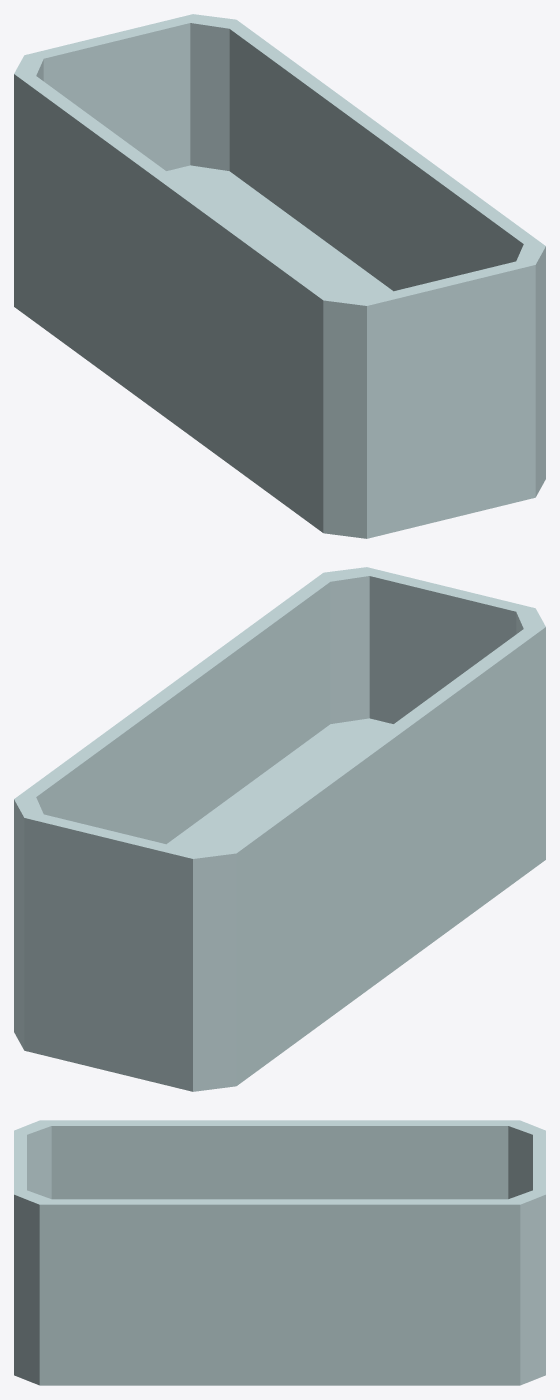
File: bath.fbx
The picture shows the model from 3 angles, top to bottom: view 1: azimuth 30°, elevation 25°; view 2: azimuth 150°, elevation 25°; view 3: azimuth 270°, elevation 25°; orthographic projection. The views are drawn at different scales.
Visible parts, largest first — view 1: bath; view 2: bath; view 3: bath.
Boxes of the visible parts, left/top/right/bottom form: bath: left=14, top=14, right=545, bottom=538; bath: left=14, top=567, right=545, bottom=1091; bath: left=14, top=1120, right=545, bottom=1385.
Size of the model in its own units: 75 by 75 by 200.
